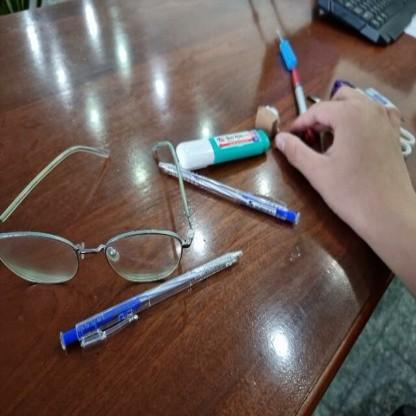not trash: (5, 140, 193, 289), (55, 248, 246, 358), (153, 157, 305, 231), (172, 126, 278, 166), (264, 24, 304, 74), (245, 100, 284, 137), (288, 67, 310, 116)
